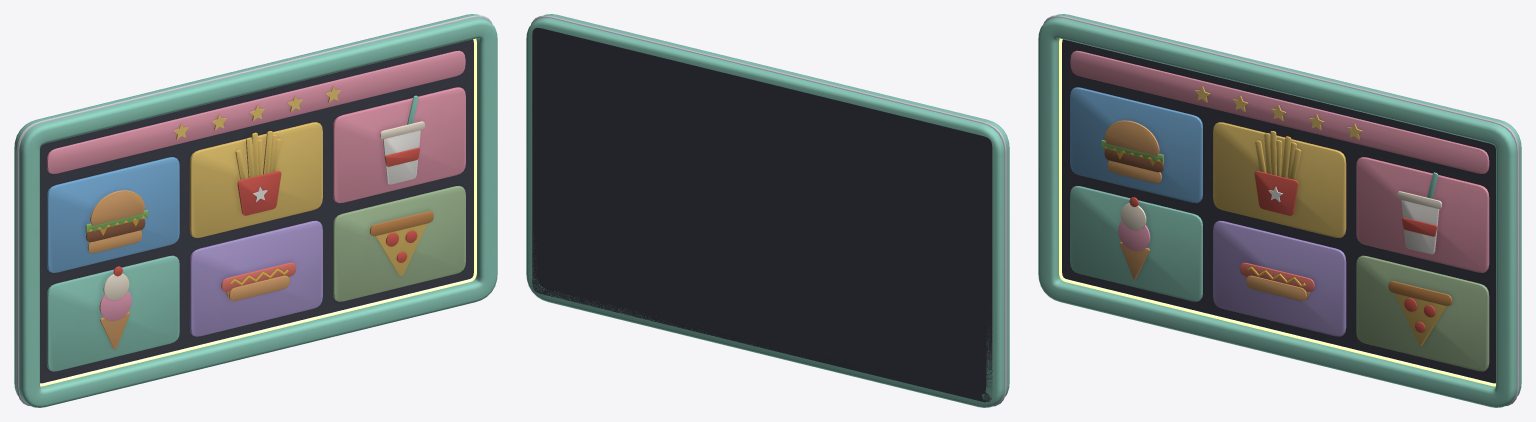
Rendered from menu-board.glb.
3 views of the same model, side by side, from view 1: azimuth 30°, elevation 25°; view 2: azimuth 150°, elevation 25°; view 3: azimuth 330°, elevation 25° (orthographic).
Parts seen in each view (by area): view 1: menu-board_body, menu-board_glow_edge; view 2: menu-board_body; view 3: menu-board_body, menu-board_glow_edge.
Boxes of the visible parts, box(x1,y1,x2,y2) form: menu-board_body: box(14, 14, 497, 407); menu-board_glow_edge: box(40, 38, 476, 386); menu-board_body: box(526, 14, 1009, 407); menu-board_body: box(1038, 14, 1521, 407); menu-board_glow_edge: box(1059, 38, 1495, 386).
Bounding box in the file's own units: 1.51 × 0.858 × 0.062.
Materials: 2 (1 with a texture image).
